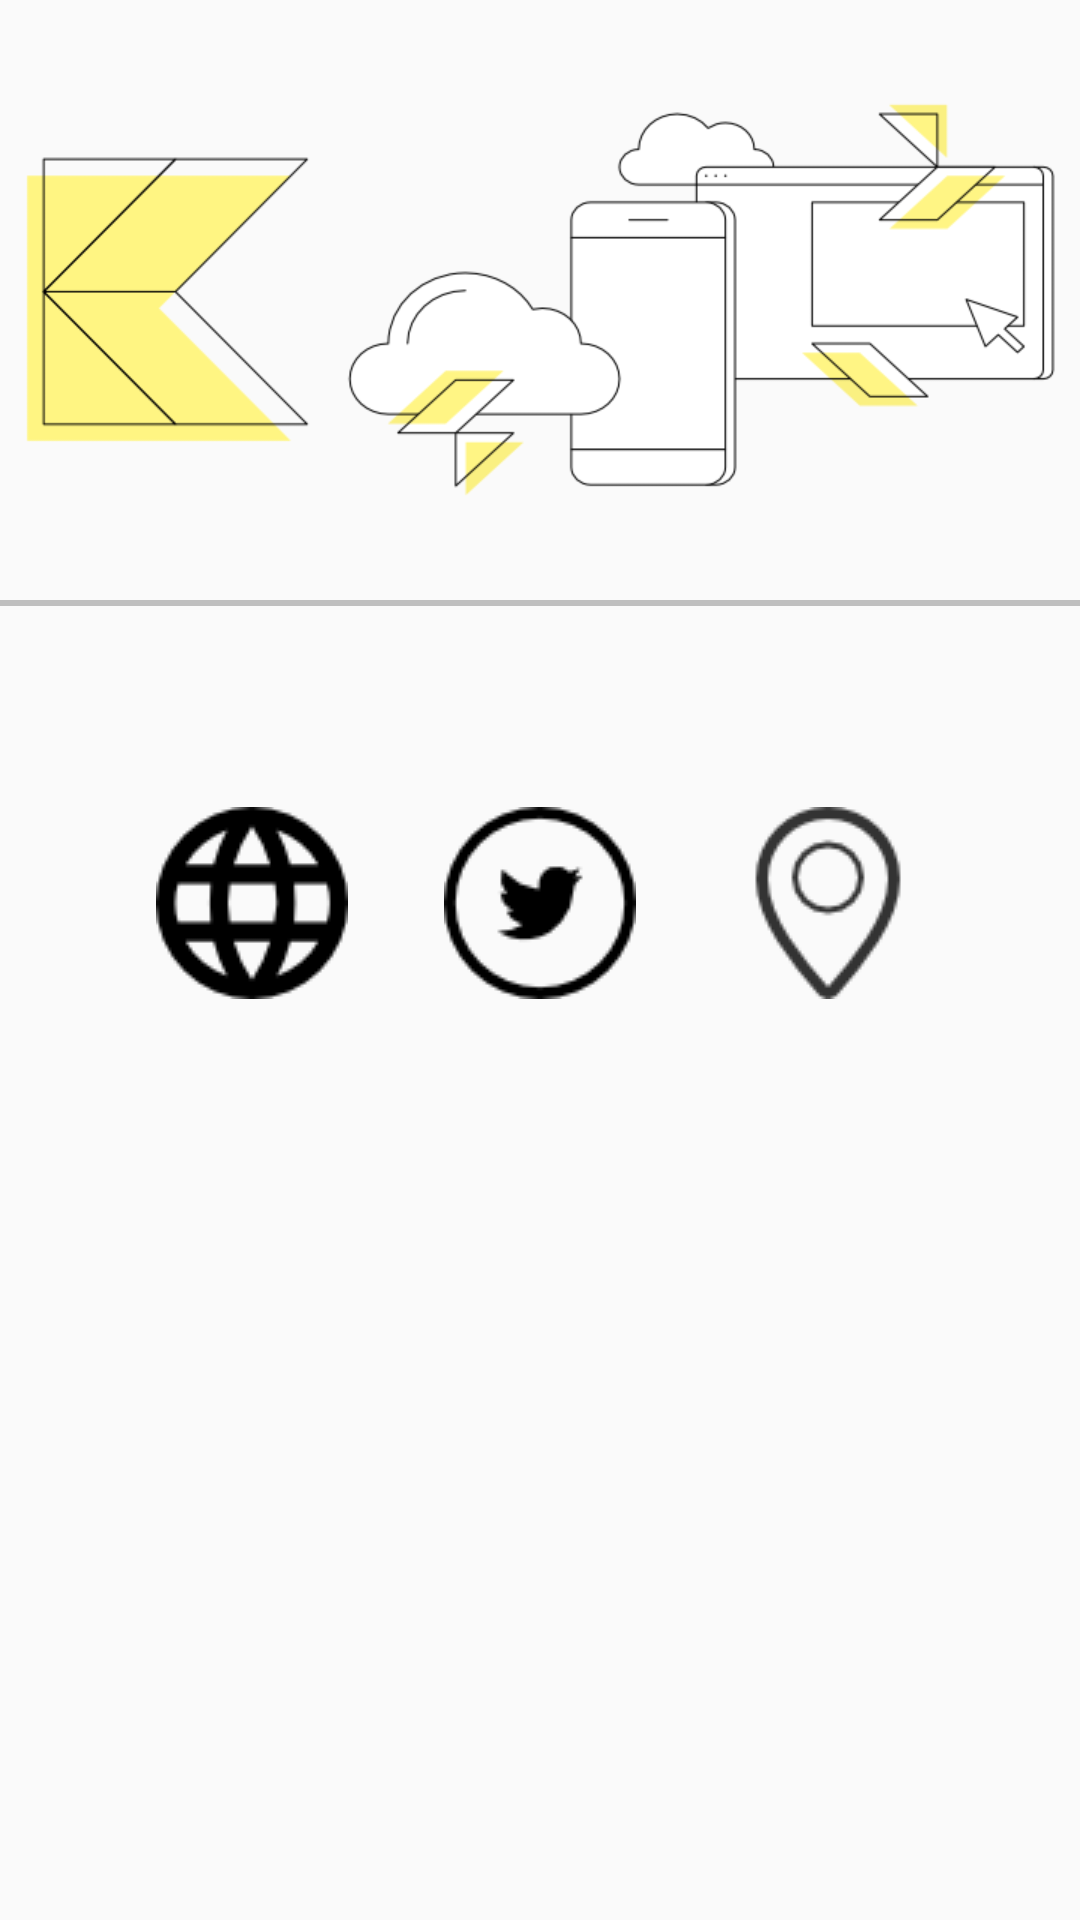

Screen size 1080 x 1920. Icon name, then its center in pixels as [x,y]:
location: [828,903]
website: [252,903]
